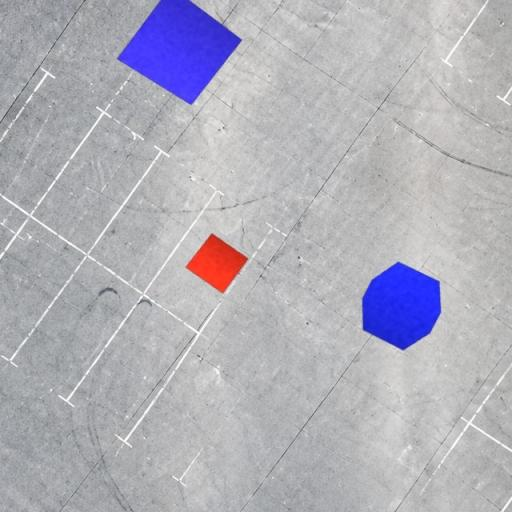BLUE_SQUARE: (116, 0, 242, 106)
RED_SQUARE: (184, 233, 250, 294)
